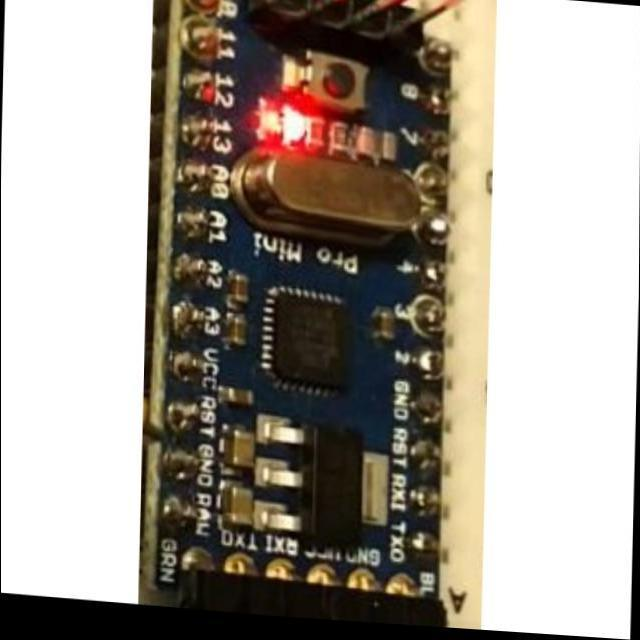Arduino-ProMini: (142, 1, 458, 624)
